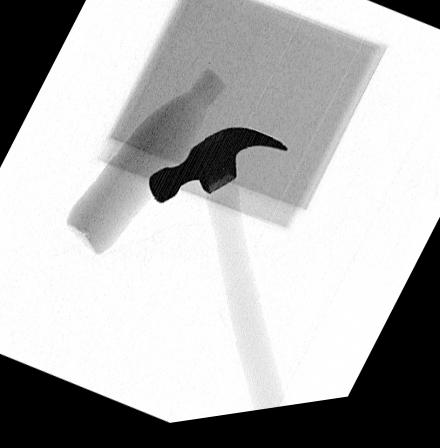Hammer: (147, 132, 292, 418)
